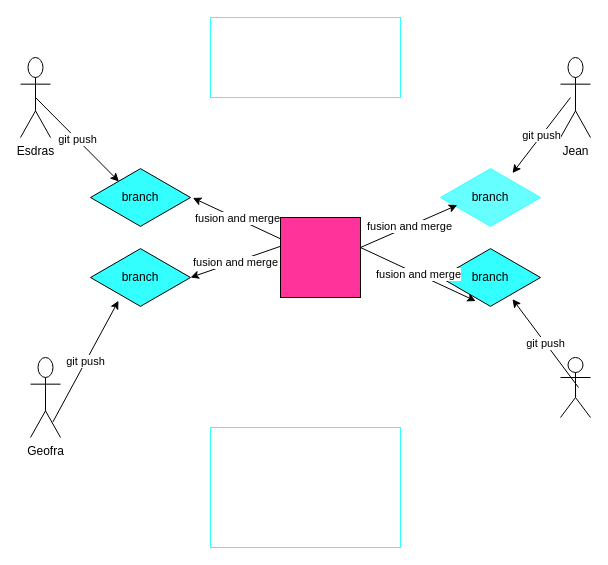
The diagram is 608 pixels wide and 565 high, and some of its shapes have lost their labels. Here are the shapes that lost their labels. From the top down, the centre of each, then its label:
point 305,57: Envoi git add . git commit -m 'message' git push origin master
point 320,257: Master branch
point 575,387: Dem
point 305,487: Récup git fetch origin master git merge origin branch ou git pull origin branch
